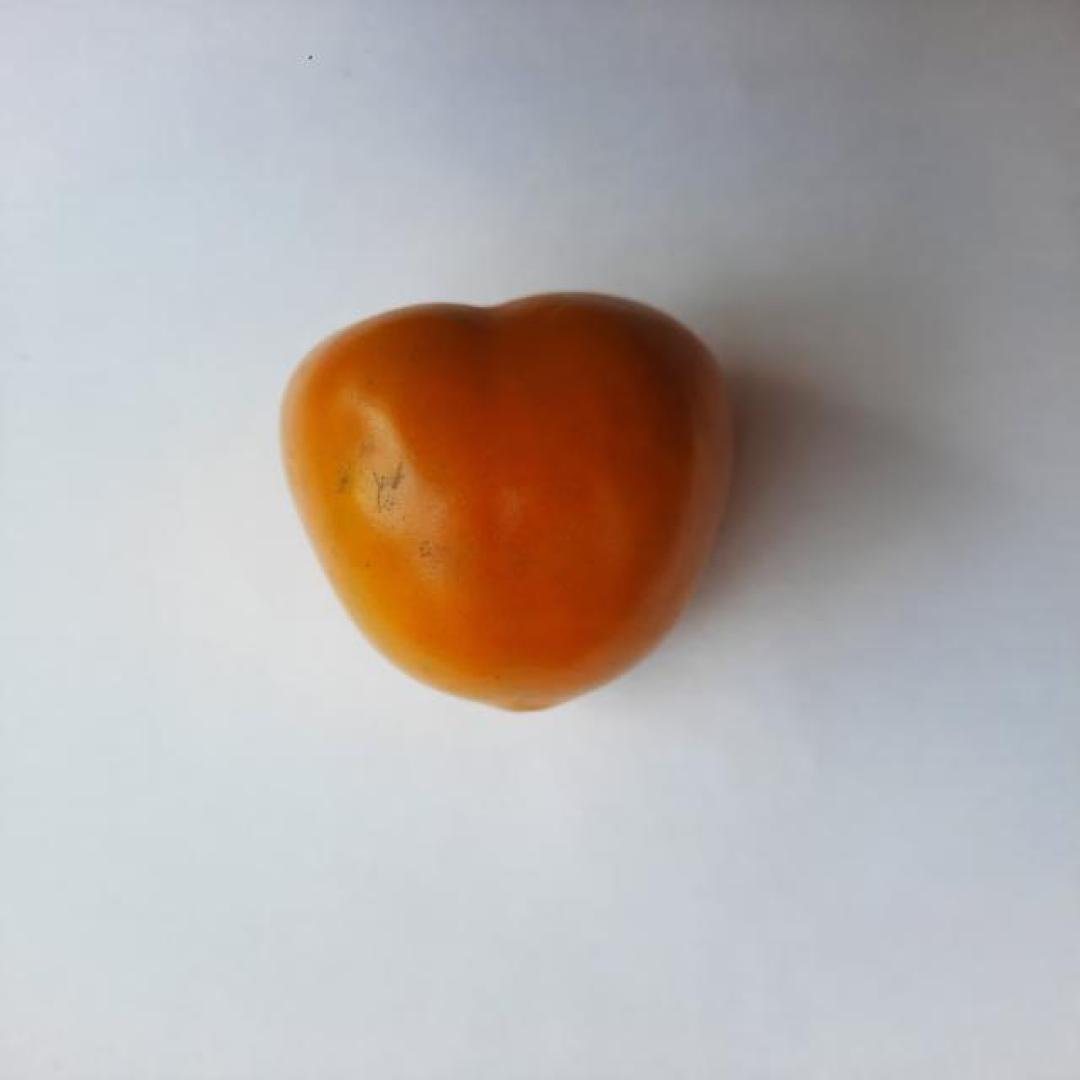setengah_matang: (275, 290, 739, 716)
